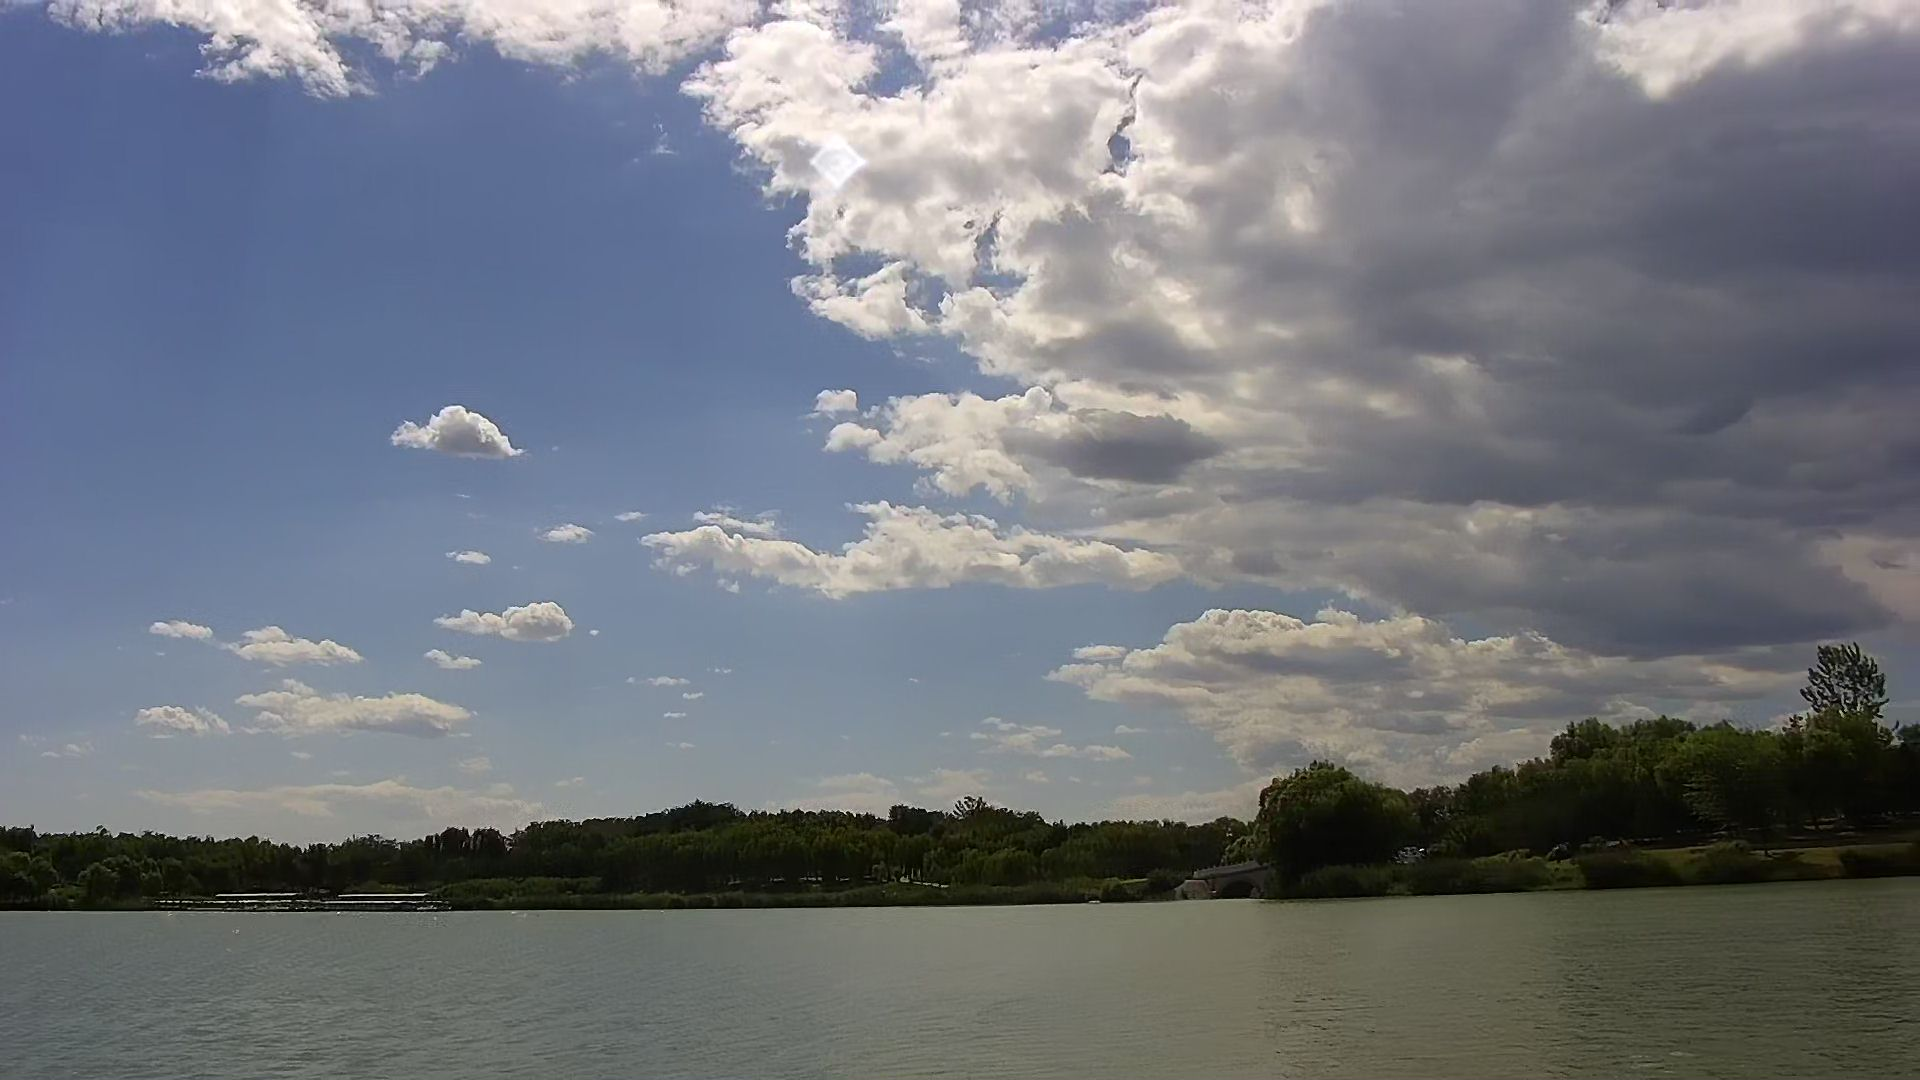harbor: (174, 887, 436, 918)
